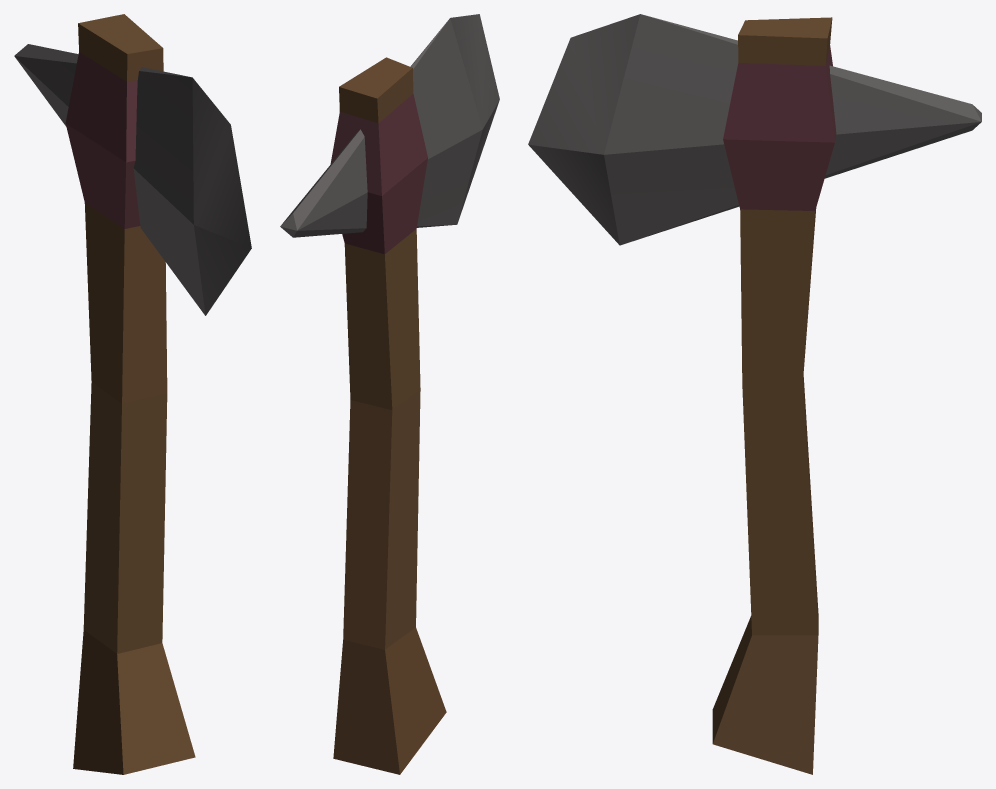
The model's file is tribal-axe-tribal.glb.
3 views of the same model, side by side, from view 1: azimuth 30°, elevation 25°; view 2: azimuth 150°, elevation 25°; view 3: azimuth 270°, elevation 25° (orthographic). The views are drawn at different scales.
Visible parts, largest first — view 1: SM_Axe_Tribal; view 2: SM_Axe_Tribal; view 3: SM_Axe_Tribal.
Boxes of the visible parts, x1=… form: SM_Axe_Tribal: x1=14, y1=14, x2=251, y2=774; SM_Axe_Tribal: x1=280, y1=14, x2=499, y2=774; SM_Axe_Tribal: x1=528, y1=14, x2=981, y2=774.
Bounding box in the file's own units: 0.065 × 0.6437 × 0.3569.
